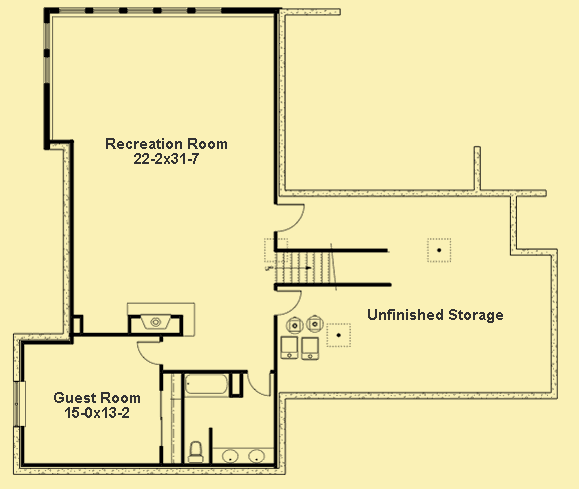door: (273, 201, 308, 234), (274, 288, 305, 316), (135, 341, 164, 368), (246, 370, 271, 398)
large_sink: (186, 439, 207, 463)
small_sink: (213, 445, 274, 464), (41, 19, 53, 83)
stairs: (274, 248, 343, 288)
tub: (184, 372, 231, 398)
window: (13, 381, 28, 430)
